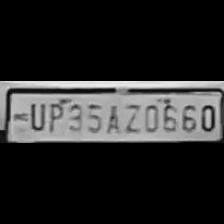0: (141, 100, 159, 132), (198, 101, 216, 131)
3: (65, 100, 83, 134)
5: (84, 100, 103, 134)
6: (178, 102, 196, 132), (160, 100, 176, 132)
A: (103, 100, 121, 134)
P: (45, 99, 63, 133)
U: (26, 99, 46, 131)
Z: (119, 100, 139, 134)
